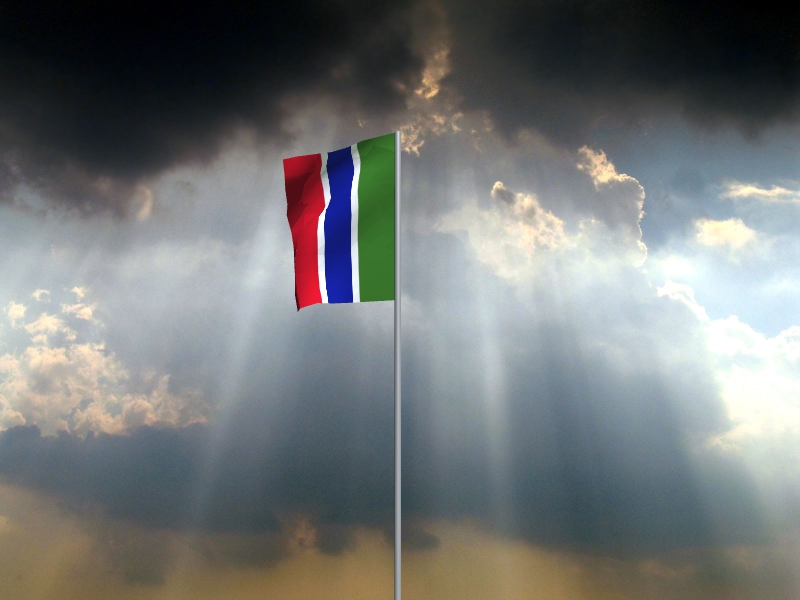gm: (282, 133, 396, 314)
